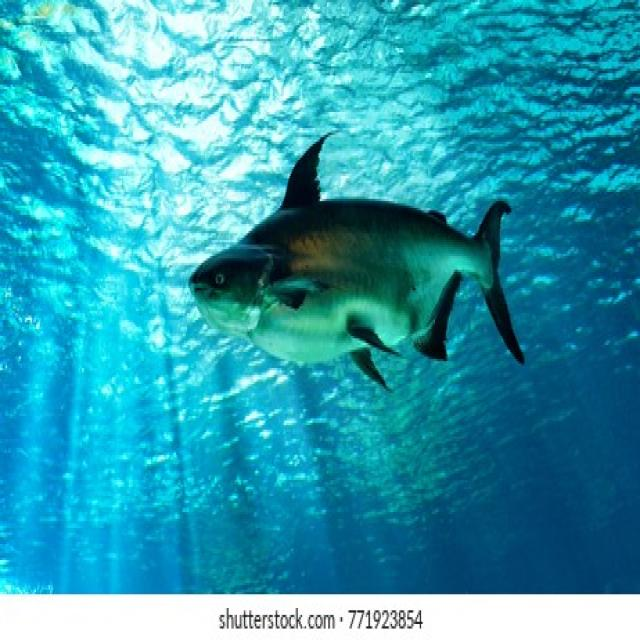Mekong_Giant_Catfish: (188, 123, 527, 397)
